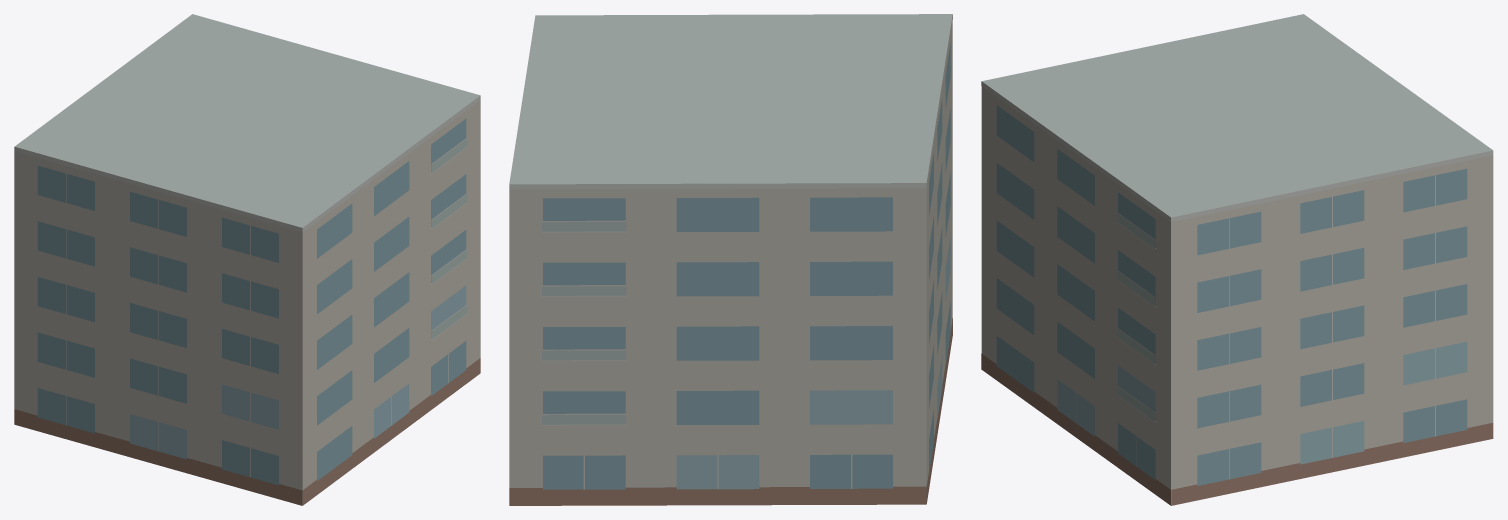
Rendered from survey-upis-32992039.glb.
The picture shows the model from 3 angles, left to right: view 1: azimuth 30°, elevation 25°; view 2: azimuth 150°, elevation 25°; view 3: azimuth 270°, elevation 25°; orthographic projection. The views are drawn at different scales.
Visible parts, largest first — view 1: survey-upis-32992039.tmp; view 2: survey-upis-32992039.tmp; view 3: survey-upis-32992039.tmp.
Part boxes in pixels (x1,y1,x2,y2): survey-upis-32992039.tmp: [14, 14, 480, 505]; survey-upis-32992039.tmp: [509, 14, 952, 505]; survey-upis-32992039.tmp: [981, 14, 1493, 505].
Size of the model in its own units: 22.95 by 15.15 by 24.38.
